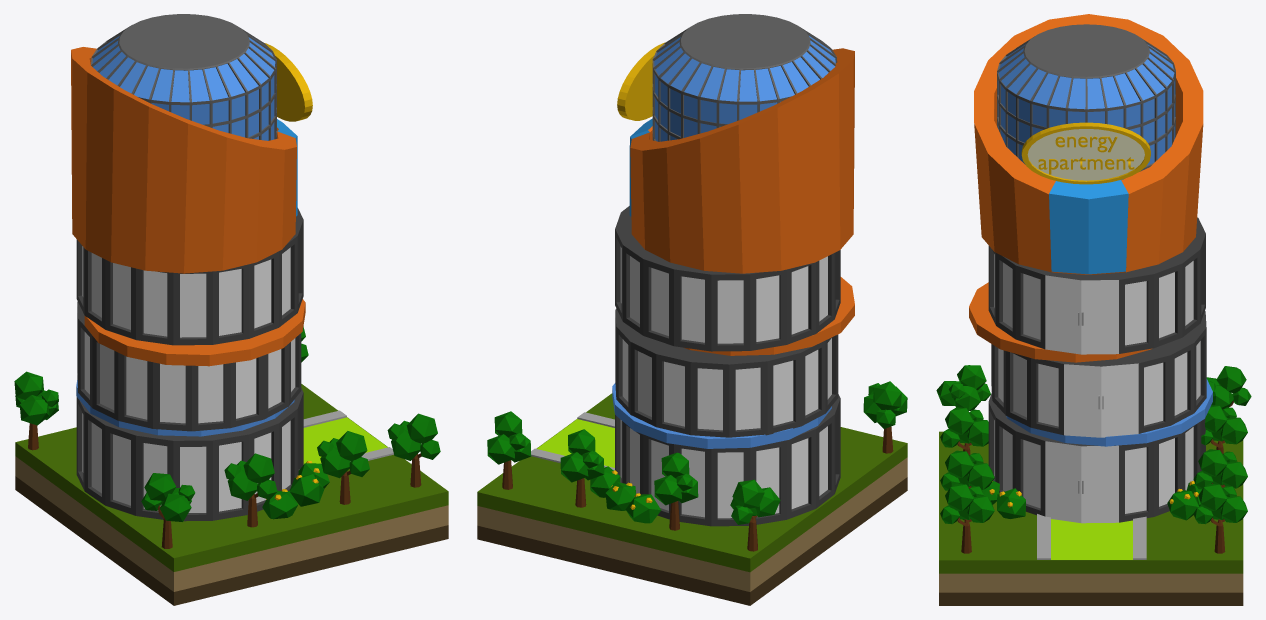
File: Apartment3Prefab.fbx
3 renders of one model, left to right at view 1: azimuth 30°, elevation 25°; view 2: azimuth 150°, elevation 25°; view 3: azimuth 270°, elevation 25°, orthographic. The views are drawn at different scales.
Visible parts, largest first — view 1: Cylinder.113, house ground.009, Cylinder.117, Cylinder.114, Cylinder.112, Cylinder.116, Cylinder.118, Plane.123, Cylinder.115, Cylinder.119, flower bush.040, flower bush.041 (+10 smaller); view 2: Cylinder.113, house ground.009, Cylinder.116, Cylinder.117, Cylinder.114, Cylinder.112, Cylinder.119, Plane.123, Cylinder.115, Cylinder.118, flower bush.038, Icosphere.098 (+7 smaller); view 3: Cylinder.113, house ground.009, Cylinder.114, Cylinder.117, Cylinder.116, Cylinder.112, Cylinder.115, Plane.123, Cylinder.118, Cylinder.119, Text.026, flower bush.039 (+16 smaller).
Boxes of the visible parts, left/top/right/bottom form: Cylinder.113: left=71, top=47, right=297, bottom=273; house ground.009: left=15, top=384, right=448, bottom=605; Cylinder.117: left=76, top=208, right=303, bottom=345; Cylinder.114: left=91, top=14, right=276, bottom=140; Cylinder.112: left=76, top=388, right=303, bottom=521; Cylinder.116: left=77, top=301, right=301, bottom=431; Cylinder.118: left=84, top=299, right=305, bottom=366; Plane.123: left=303, top=410, right=393, bottom=464; Cylinder.115: left=264, top=43, right=312, bottom=121; Cylinder.119: left=76, top=380, right=294, bottom=436; flower bush.040: left=289, top=474, right=324, bottom=506; flower bush.041: left=262, top=490, right=298, bottom=519; Cylinder.113: left=629, top=48, right=854, bottom=273; house ground.009: left=477, top=393, right=907, bottom=605; Cylinder.116: left=615, top=308, right=838, bottom=437; Cylinder.117: left=615, top=206, right=840, bottom=351; Cylinder.114: left=652, top=14, right=837, bottom=141; Cylinder.112: left=615, top=394, right=840, bottom=526; Cylinder.119: left=612, top=383, right=831, bottom=448; Plane.123: left=531, top=412, right=614, bottom=470; Cylinder.115: left=617, top=42, right=665, bottom=120; Cylinder.118: left=684, top=277, right=854, bottom=355; flower bush.038: left=625, top=494, right=661, bottom=523; Icosphere.098: left=732, top=479, right=764, bottom=508; Cylinder.113: left=974, top=14, right=1203, bottom=274; house ground.009: left=939, top=431, right=1243, bottom=605; Cylinder.114: left=997, top=24, right=1175, bottom=180; Cylinder.117: left=988, top=217, right=1205, bottom=354; Cylinder.116: left=991, top=311, right=1206, bottom=437; Cylinder.112: left=988, top=393, right=1205, bottom=523; Cylinder.115: left=1021, top=122, right=1150, bottom=184; Plane.123: left=1037, top=514, right=1146, bottom=559; Cylinder.118: left=969, top=282, right=1152, bottom=362; Cylinder.119: left=1006, top=379, right=1212, bottom=446; Text.026: left=1038, top=136, right=1134, bottom=174; flower bush.039: left=997, top=488, right=1025, bottom=518.
Bounding box in the file's own units: 194 × 318 × 194.
